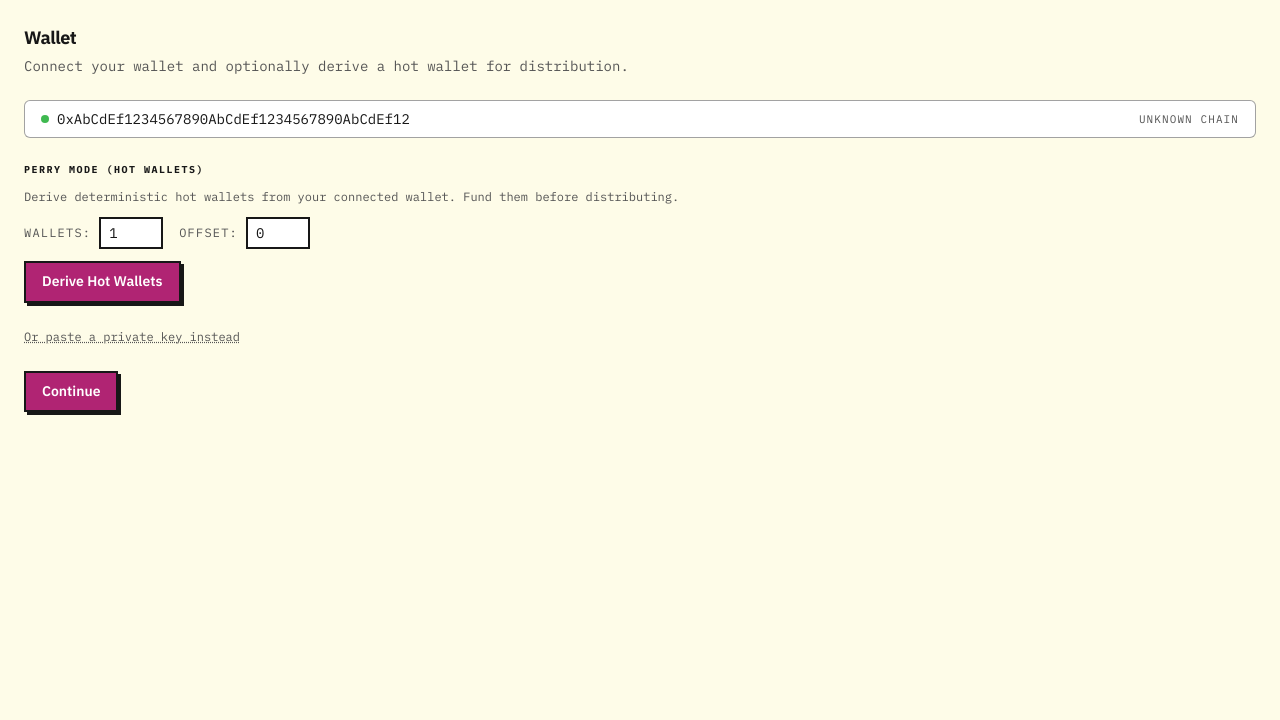
Test: WalletStep › private-key escape hatch › rejects a pasted key with the wrong length
The image size is (1280, 720).
Click the button "Or paste a private key instead".
click(132, 336)  # box [24,328,240,344]
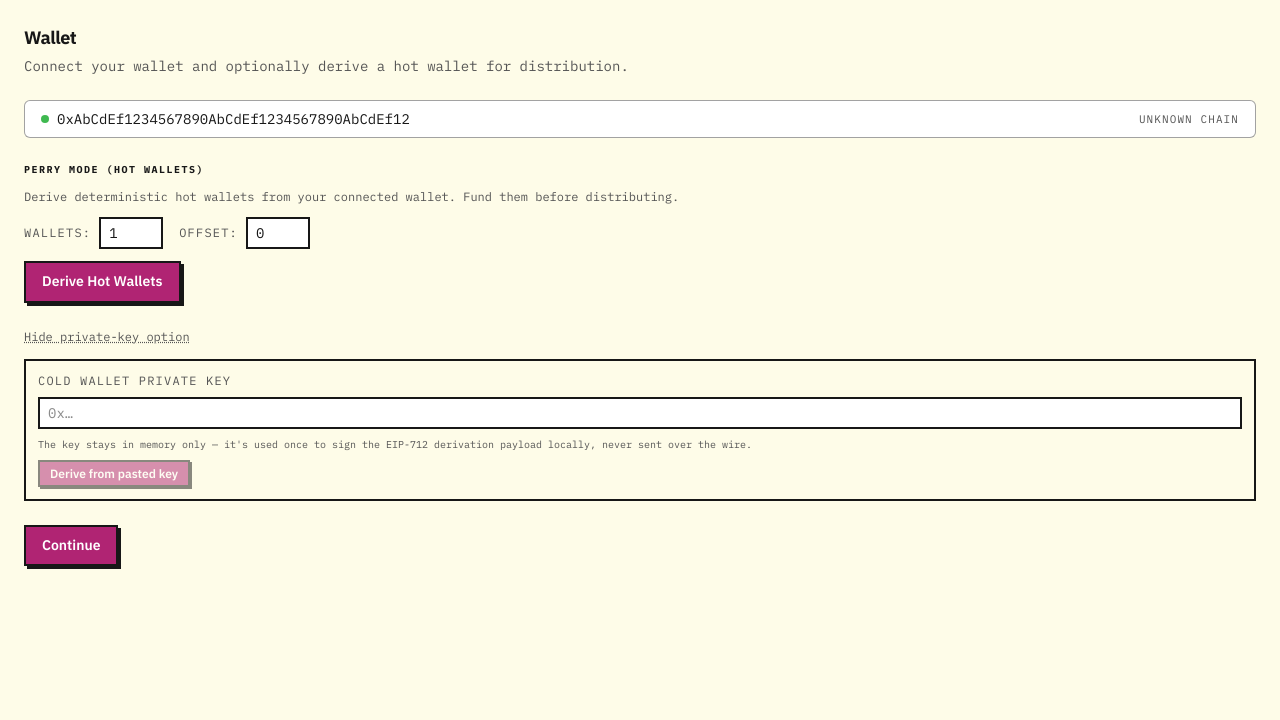
Type "0xabc" into the password field labelled "Cold wallet private key".
click(640, 412); type("0xabc")  # box [38,396,1242,428]
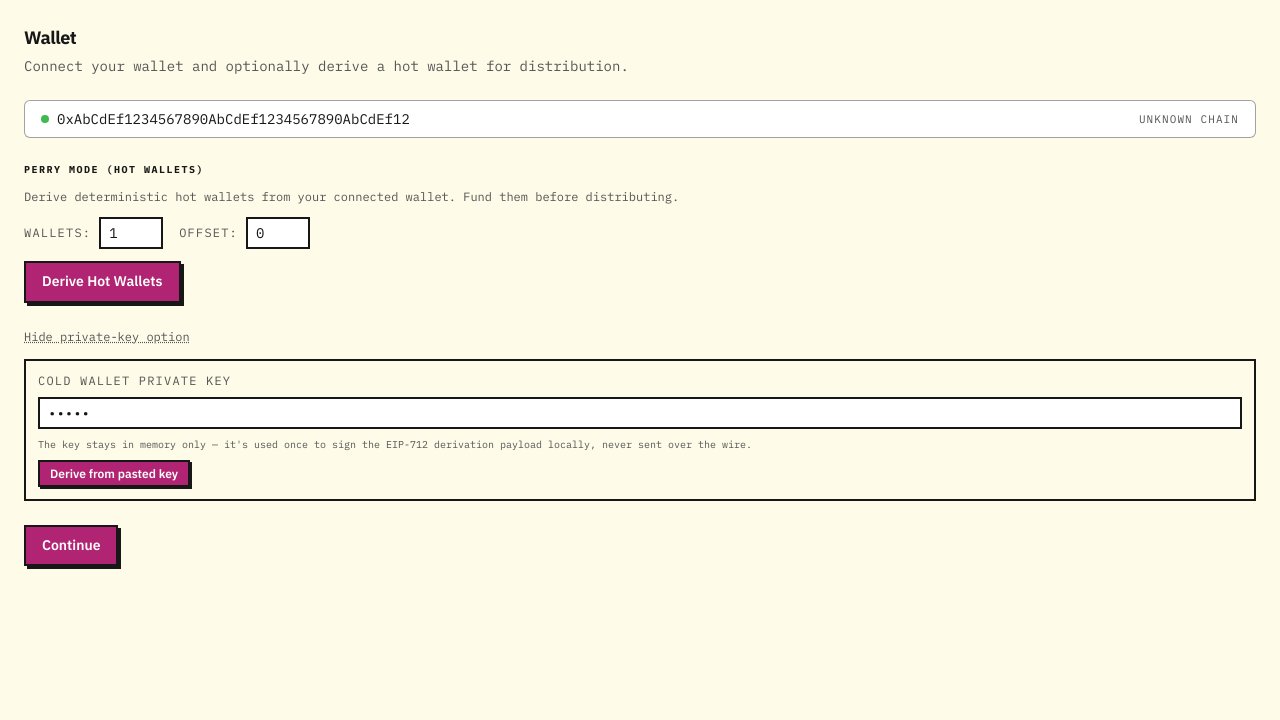
Click the button "Derive from pasted key".
click(114, 473)  # box [38,460,190,486]
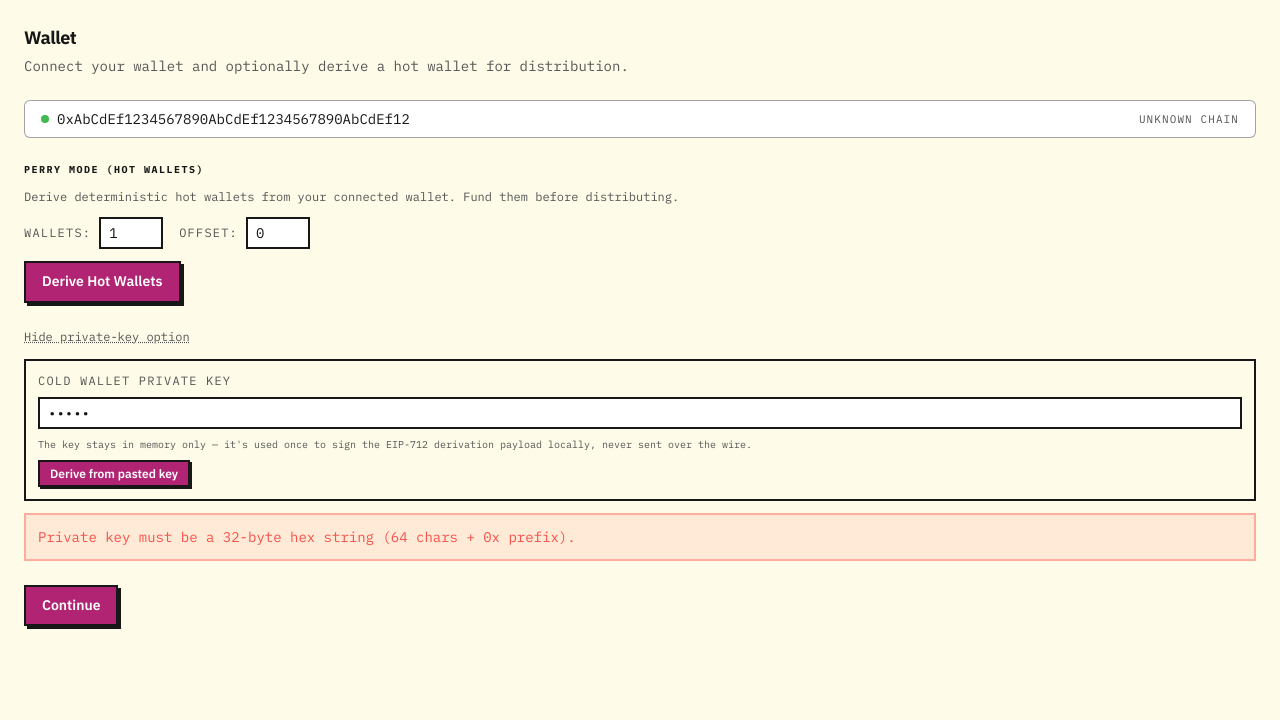
Now the text "must be a 32-byte hex" is shown, box [38,528,576,546]
